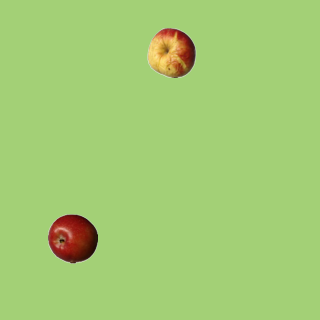Apple Braeburn: (47, 213, 97, 263)
Apple Red Yellow 1: (146, 27, 196, 77)
